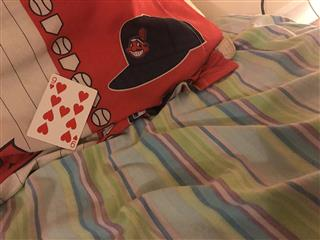NineOfHearts: (25, 72, 97, 150)
